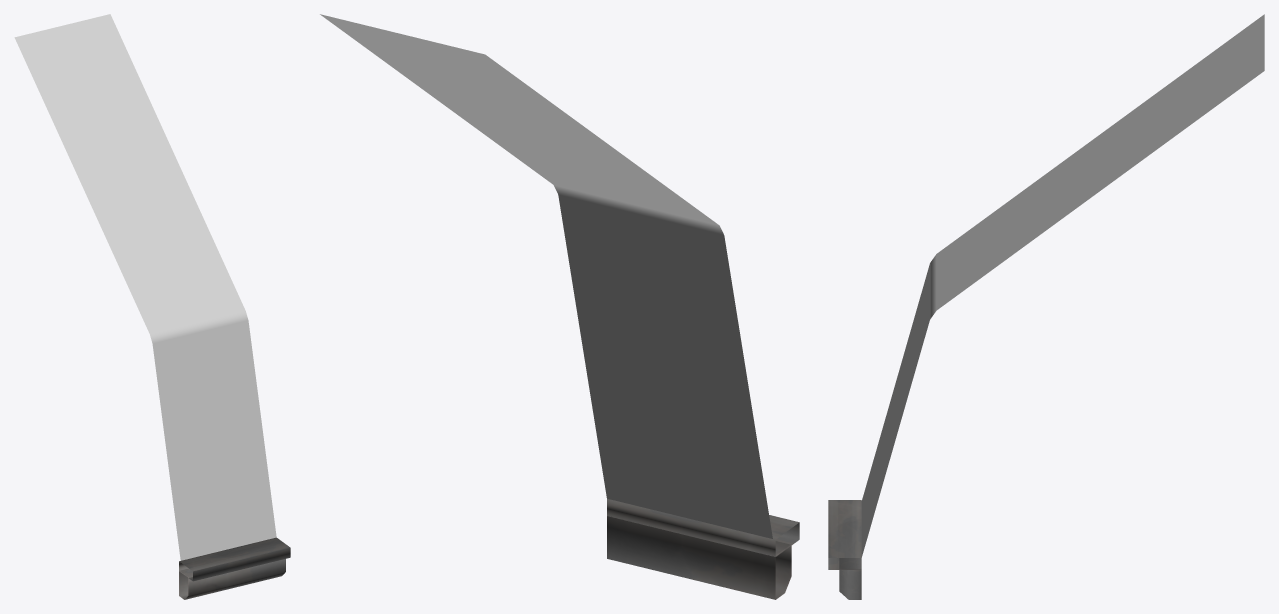
Rendered from Roof_02.fbx.
3 views of the same model, side by side, from view 1: azimuth 30°, elevation 25°; view 2: azimuth 150°, elevation 25°; view 3: azimuth 270°, elevation 25° (orthographic). The views are drawn at different scales.
Parts seen in each view (by area): view 1: Roof_02, Roof_Trim_05; view 2: Roof_02, Roof_Trim_05; view 3: Roof_02, Roof_Trim_05.
Boxes of the visible parts, x1,y1,x2,y2 form: Roof_02: (14, 14, 276, 560); Roof_Trim_05: (179, 537, 290, 599); Roof_02: (320, 14, 772, 538); Roof_Trim_05: (607, 498, 799, 599); Roof_02: (861, 14, 1264, 557); Roof_Trim_05: (828, 500, 861, 599).
Size of what is drawn, in the model's own units: 1.02 by 4.35 by 3.25.
